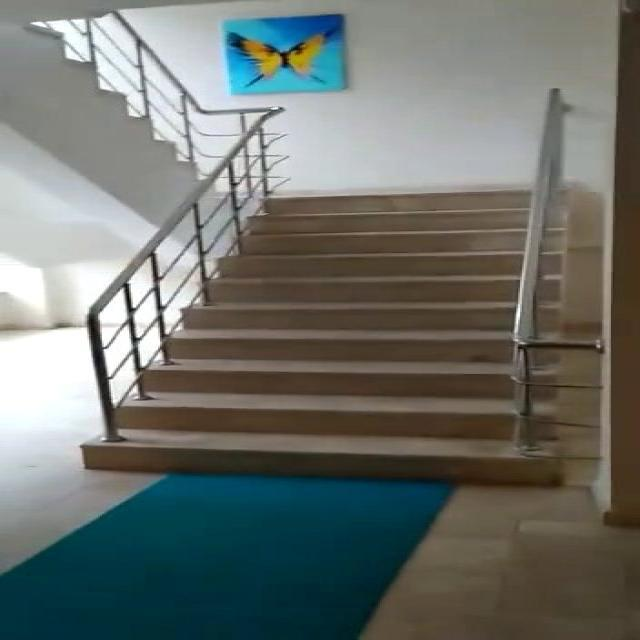stair: (92, 189, 572, 490)
